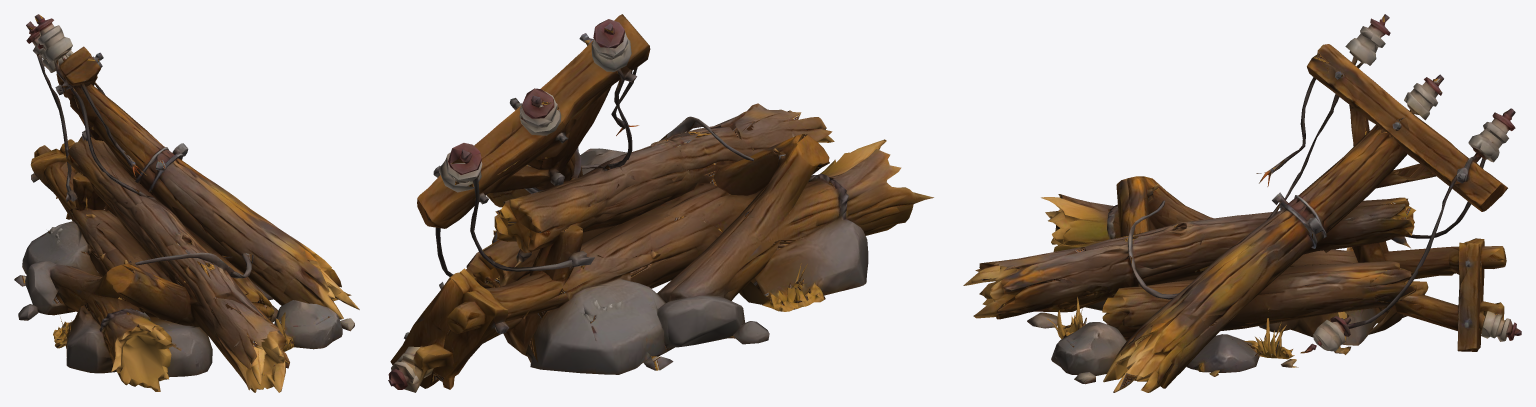
File: fallen-utility-pole.glb
3 views of the same model, side by side, from view 1: azimuth 30°, elevation 25°; view 2: azimuth 150°, elevation 25°; view 3: azimuth 270°, elevation 25° (orthographic). The views are drawn at different scales.
Parts seen in each view (by area): view 1: SM_FallenUtilityPole; view 2: SM_FallenUtilityPole; view 3: SM_FallenUtilityPole.
Boxes of the visible parts, left/top/right/bottom form: SM_FallenUtilityPole: left=14, top=14, right=359, bottom=392; SM_FallenUtilityPole: left=388, top=14, right=933, bottom=392; SM_FallenUtilityPole: left=963, top=14, right=1521, bottom=392.
Bounding box in the file's own units: 3.84 × 3.37 × 6.
1 material, 1 textured.
